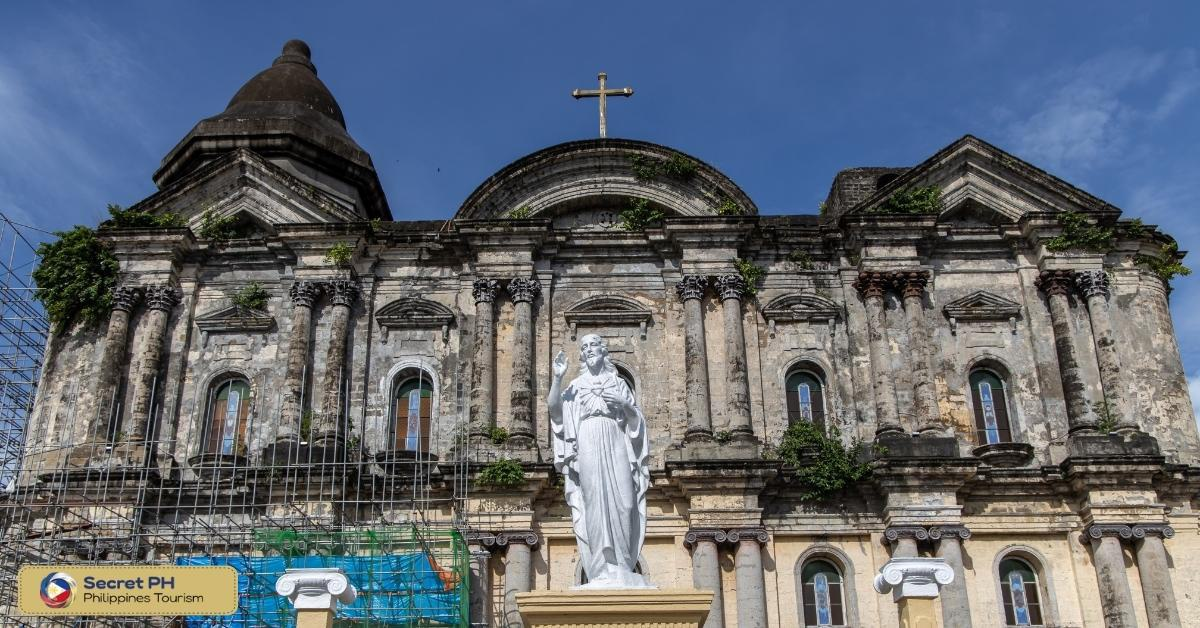taal_basilica_church_taal_batangas: (31, 31, 1200, 628)
